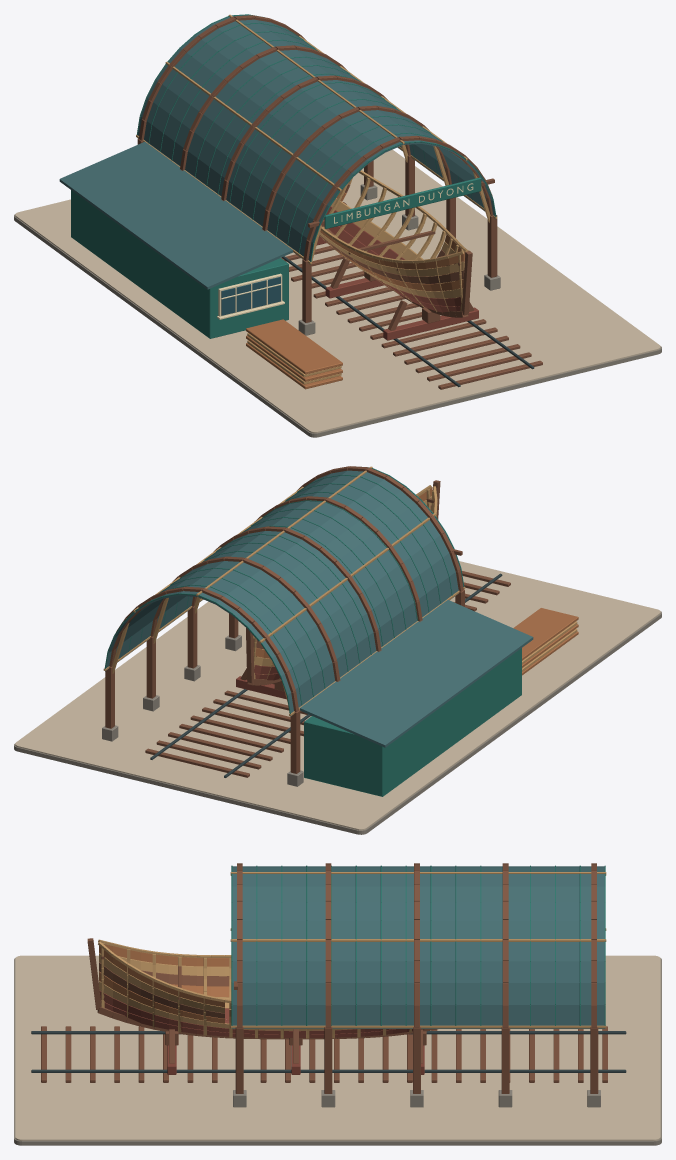
3 renders of one model, top to bottom at view 1: azimuth 30°, elevation 25°; view 2: azimuth 150°, elevation 25°; view 3: azimuth 270°, elevation 25°, orthographic. The views are drawn at different scales.
Parts seen in each view (by area): view 1: Slip Rails and Cradle, Open Ribbed Boatshed, Joinery Loft, Unfinished Pinisi Hull; view 2: Slip Rails and Cradle, Open Ribbed Boatshed, Joinery Loft, Unfinished Pinisi Hull; view 3: Slip Rails and Cradle, Open Ribbed Boatshed, Unfinished Pinisi Hull.
Part boxes in pixels (box(x1,y1,x2,y2)): Slip Rails and Cradle: box(14, 149, 661, 437); Open Ribbed Boatshed: box(136, 14, 500, 335); Joinery Loft: box(59, 141, 342, 389); Unfinished Pinisi Hull: box(319, 170, 472, 317); Slip Rails and Cradle: box(14, 561, 661, 834); Open Ribbed Boatshed: box(102, 466, 465, 786); Joinery Loft: box(299, 599, 578, 796); Unfinished Pinisi Hull: box(246, 480, 440, 685); Slip Rails and Cradle: box(14, 955, 661, 1145); Open Ribbed Boatshed: box(230, 863, 606, 1107); Unfinished Pinisi Hull: box(87, 938, 437, 1039).
Size of the model in its own units: 21.9 by 10.52 by 32.4.
